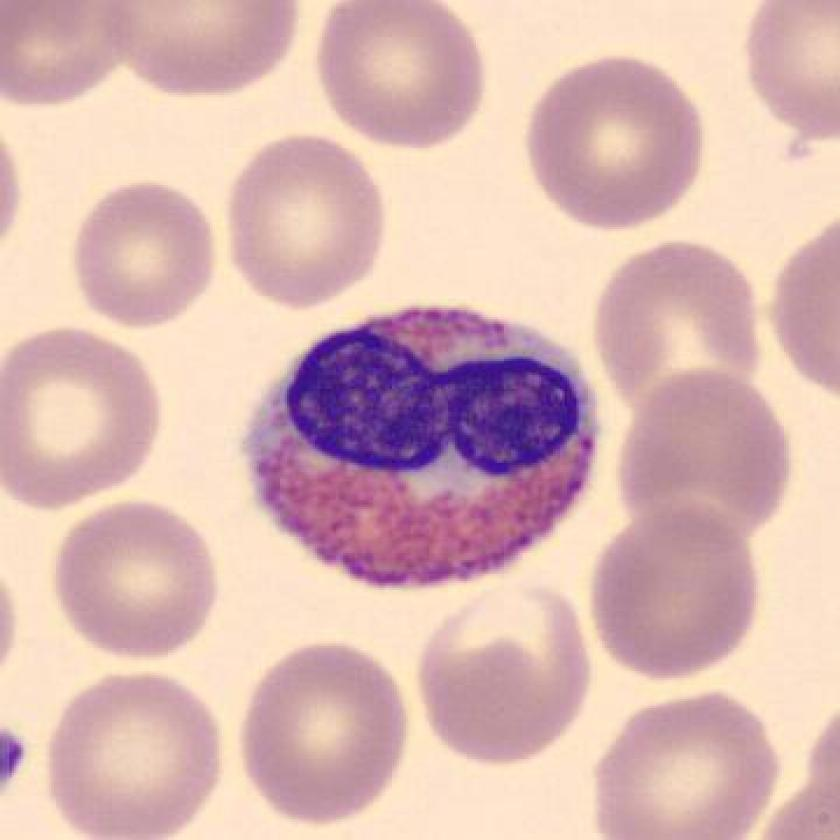eosinophil: (227, 288, 617, 607)
